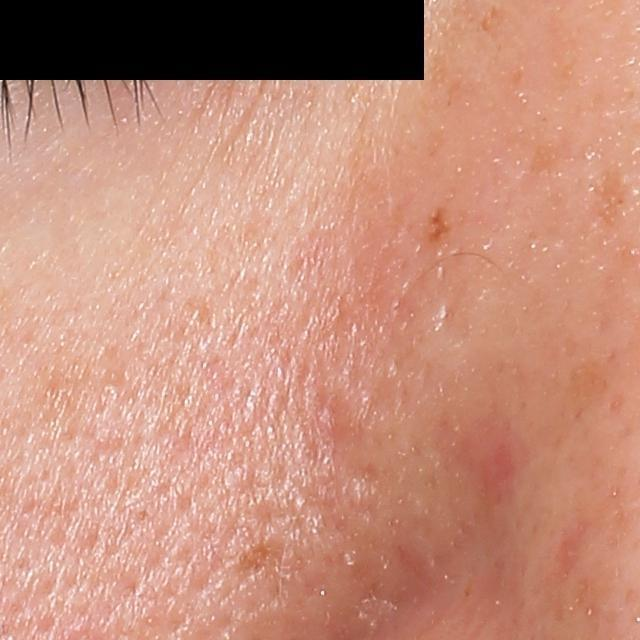melasma: (424, 45, 466, 112), (591, 162, 630, 234), (526, 139, 580, 182), (476, 2, 510, 40)
